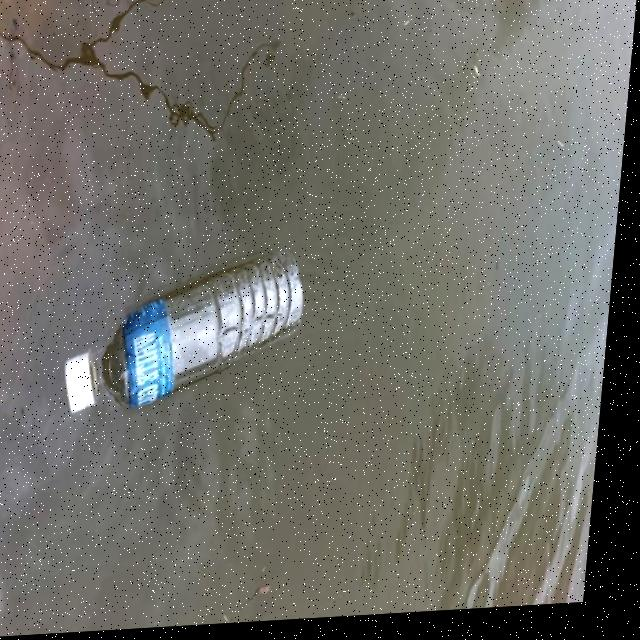waterbottle: (64, 246, 315, 440)
